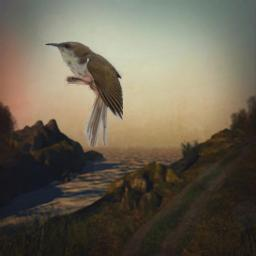Cuckoo: (44, 40, 123, 147)
